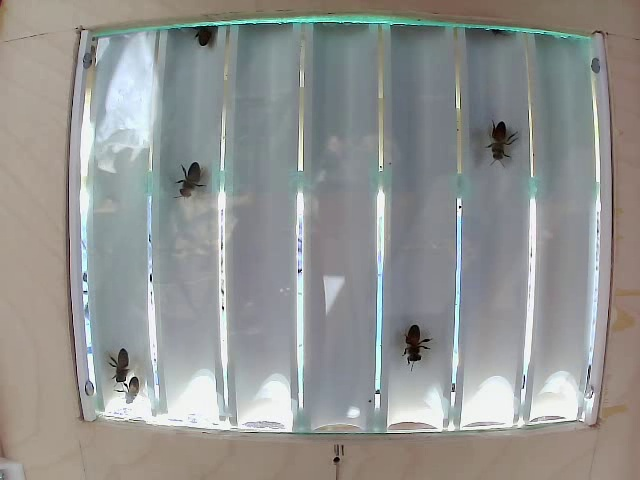bee: (395, 306, 433, 364), (171, 139, 205, 201), (491, 113, 516, 171), (100, 354, 136, 384), (111, 377, 149, 403)
